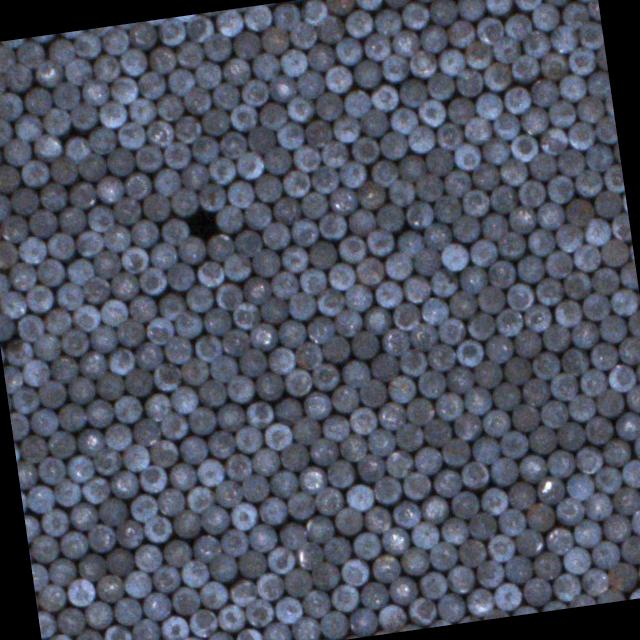tool: (136, 464, 168, 496), (605, 560, 637, 592), (160, 538, 192, 570), (474, 559, 506, 590), (280, 442, 312, 473), (528, 424, 560, 455), (198, 502, 229, 534), (68, 501, 100, 532), (412, 170, 443, 202), (214, 402, 246, 433), (168, 584, 199, 616), (186, 608, 218, 639), (474, 16, 506, 47), (475, 284, 506, 315), (584, 414, 615, 445), (595, 387, 626, 418), (97, 496, 128, 527), (86, 522, 117, 553), (376, 401, 407, 432), (236, 547, 267, 578), (314, 484, 345, 515), (462, 39, 493, 70), (511, 402, 542, 433), (355, 453, 386, 484), (490, 381, 521, 412), (387, 575, 418, 606), (249, 50, 280, 81), (441, 436, 472, 467), (422, 146, 453, 177), (449, 490, 480, 521), (408, 321, 439, 352), (27, 533, 58, 564), (341, 358, 372, 389), (257, 494, 287, 526), (427, 540, 457, 572), (486, 532, 516, 564), (302, 514, 334, 544), (348, 606, 378, 638), (168, 186, 198, 218), (108, 270, 138, 302), (488, 184, 518, 216), (446, 564, 476, 596), (533, 550, 563, 582), (378, 130, 408, 162), (384, 250, 414, 282), (582, 216, 612, 248), (278, 46, 308, 78), (356, 177, 386, 209), (190, 534, 222, 564), (140, 590, 170, 621), (289, 217, 320, 247), (357, 377, 387, 408), (334, 506, 364, 537), (250, 447, 280, 478), (35, 256, 66, 286), (482, 62, 513, 92), (491, 580, 521, 611), (243, 598, 274, 628), (56, 400, 86, 431), (530, 1, 560, 32), (26, 208, 57, 238), (394, 422, 424, 453), (483, 332, 513, 363), (16, 236, 47, 266), (562, 270, 592, 301), (462, 386, 492, 417), (110, 469, 140, 500), (570, 518, 601, 548), (168, 382, 198, 413), (598, 238, 629, 268), (554, 223, 584, 254), (186, 405, 216, 436), (132, 543, 162, 574), (294, 339, 324, 370), (24, 283, 54, 314), (466, 312, 497, 342), (556, 418, 586, 449), (431, 193, 461, 224), (192, 59, 222, 90), (38, 182, 68, 213), (256, 369, 286, 400), (399, 546, 430, 576), (260, 24, 290, 55), (214, 204, 244, 235), (310, 163, 340, 194), (544, 173, 574, 204), (602, 438, 633, 468), (151, 361, 181, 392), (495, 307, 525, 338), (460, 458, 490, 489), (188, 134, 218, 165), (434, 591, 464, 622), (113, 596, 143, 627), (84, 397, 114, 428), (194, 457, 224, 488), (478, 486, 508, 517), (566, 120, 596, 151), (584, 142, 614, 173), (36, 378, 66, 409), (547, 372, 577, 403), (202, 32, 232, 63), (178, 434, 208, 465), (268, 74, 298, 105), (314, 15, 344, 46), (573, 444, 603, 475), (284, 566, 314, 597), (358, 106, 388, 137), (114, 517, 144, 548), (302, 391, 332, 422), (308, 437, 338, 468), (8, 261, 38, 292), (56, 606, 86, 637), (249, 321, 279, 352), (566, 45, 596, 76), (180, 86, 210, 117), (377, 603, 407, 634), (132, 417, 162, 448), (420, 495, 450, 526), (158, 217, 189, 247), (398, 77, 428, 108), (564, 197, 594, 228), (432, 466, 462, 497), (560, 1, 590, 32), (4, 62, 34, 93), (430, 266, 459, 298), (506, 204, 536, 234), (254, 572, 284, 602), (579, 368, 609, 398), (508, 54, 538, 84), (386, 374, 416, 404), (250, 248, 280, 278), (534, 276, 564, 306), (580, 292, 610, 322), (588, 266, 618, 296), (38, 454, 68, 484), (542, 250, 572, 280), (64, 576, 94, 606), (469, 162, 499, 192), (409, 48, 439, 78), (224, 372, 254, 402), (178, 557, 208, 587), (198, 579, 228, 609), (122, 568, 152, 598), (346, 481, 376, 511), (106, 147, 136, 177), (112, 393, 142, 423), (138, 265, 168, 295), (116, 316, 146, 346), (440, 243, 470, 273), (206, 551, 236, 581), (488, 456, 518, 486), (552, 299, 582, 329), (276, 119, 306, 149), (364, 427, 394, 457), (416, 97, 446, 127), (270, 468, 300, 498), (98, 298, 128, 328), (334, 35, 364, 65), (560, 545, 590, 575), (321, 534, 351, 564), (406, 396, 436, 426), (600, 514, 630, 544), (610, 288, 640, 318), (460, 187, 490, 217), (380, 525, 410, 555), (328, 584, 358, 614), (502, 555, 532, 585), (518, 452, 548, 482), (136, 72, 166, 102), (546, 448, 576, 478), (446, 289, 476, 319), (310, 362, 340, 392), (402, 470, 432, 500), (222, 252, 252, 282), (324, 64, 354, 94), (350, 330, 380, 360), (248, 523, 278, 553), (281, 366, 311, 396), (416, 368, 446, 398), (454, 338, 484, 368), (310, 560, 340, 590), (247, 124, 277, 154), (94, 174, 124, 204), (20, 158, 50, 188), (100, 224, 130, 254), (582, 490, 612, 520), (458, 538, 488, 568), (536, 201, 566, 231), (434, 392, 464, 422), (512, 328, 542, 358), (172, 310, 202, 340), (466, 586, 496, 616), (164, 262, 194, 292), (327, 186, 357, 216), (343, 9, 373, 39), (610, 485, 640, 515), (444, 364, 474, 394), (353, 530, 383, 560), (410, 520, 440, 550), (428, 343, 458, 373), (467, 510, 497, 540), (528, 78, 558, 108), (8, 186, 38, 216), (318, 210, 348, 240), (379, 54, 409, 84), (597, 313, 627, 343), (150, 562, 180, 592), (276, 320, 306, 350), (235, 151, 265, 181), (472, 358, 502, 388), (50, 354, 80, 384), (130, 218, 160, 248), (119, 442, 149, 472), (372, 476, 402, 506), (498, 428, 528, 458), (286, 490, 316, 520), (143, 513, 173, 543), (590, 540, 620, 570), (500, 84, 530, 114), (593, 465, 623, 495), (458, 264, 488, 294), (406, 124, 436, 154), (90, 248, 120, 278), (196, 377, 226, 407), (148, 240, 178, 270), (407, 595, 437, 625), (172, 508, 202, 538), (220, 130, 250, 160), (296, 70, 326, 100), (222, 56, 252, 86), (424, 70, 454, 100), (318, 610, 348, 640), (330, 384, 360, 414), (498, 156, 528, 186), (27, 484, 57, 514), (207, 155, 237, 185), (550, 571, 580, 601), (252, 174, 282, 204), (376, 202, 406, 232), (148, 438, 178, 468), (264, 422, 294, 452), (214, 603, 244, 633), (58, 530, 88, 560), (206, 430, 236, 460), (208, 353, 238, 383), (414, 446, 444, 476), (556, 148, 586, 178), (230, 103, 260, 133), (88, 125, 118, 155), (244, 400, 274, 430), (201, 306, 231, 336), (557, 72, 587, 102), (362, 32, 392, 62), (496, 230, 526, 260), (281, 168, 311, 198), (243, 201, 273, 231), (75, 153, 105, 183), (474, 90, 504, 120), (241, 274, 271, 304), (19, 432, 49, 462), (606, 364, 636, 394), (506, 481, 536, 511), (231, 31, 261, 61), (156, 486, 186, 516), (526, 502, 556, 532), (46, 430, 76, 460), (442, 168, 472, 198), (496, 506, 526, 536), (547, 98, 577, 128), (526, 227, 556, 257), (178, 356, 208, 386), (82, 599, 112, 629), (124, 368, 154, 398), (269, 270, 299, 300), (388, 106, 418, 136), (502, 354, 532, 384), (573, 168, 603, 198), (462, 115, 492, 145), (301, 589, 331, 619), (398, 346, 428, 376), (422, 418, 452, 448), (314, 288, 344, 318), (518, 104, 548, 134), (127, 95, 157, 125), (382, 448, 412, 478), (559, 346, 589, 376), (314, 91, 344, 121), (306, 42, 336, 72), (210, 81, 240, 111), (538, 400, 568, 430), (132, 340, 162, 370), (334, 308, 364, 338), (514, 528, 544, 558), (173, 39, 203, 69), (454, 412, 484, 442), (141, 190, 171, 220), (588, 341, 618, 371), (240, 78, 270, 108), (450, 214, 480, 244), (290, 416, 320, 446), (530, 349, 560, 379), (264, 146, 294, 176), (66, 376, 96, 406), (338, 160, 368, 190), (439, 516, 469, 546), (420, 296, 450, 326), (266, 544, 296, 574), (47, 557, 77, 587), (528, 150, 558, 180), (320, 334, 350, 364), (565, 472, 595, 502), (294, 538, 324, 568), (366, 228, 396, 258), (446, 18, 476, 48), (340, 556, 370, 586), (222, 452, 252, 482), (286, 290, 316, 320), (392, 500, 422, 530), (128, 493, 158, 523), (417, 571, 447, 601), (76, 552, 106, 582), (594, 188, 624, 218), (238, 346, 268, 376), (52, 80, 82, 110), (544, 526, 574, 556), (88, 324, 118, 354), (118, 120, 148, 150), (369, 83, 399, 113), (219, 527, 249, 557), (468, 238, 498, 268), (580, 566, 610, 596), (163, 334, 193, 364), (228, 578, 258, 608), (306, 240, 336, 270), (52, 477, 82, 507), (370, 158, 400, 188), (373, 6, 403, 36), (142, 390, 172, 420), (412, 247, 442, 277), (542, 321, 572, 351), (514, 254, 544, 284), (354, 258, 384, 288), (576, 92, 606, 122), (288, 19, 318, 49), (298, 464, 328, 494), (402, 273, 432, 303), (268, 344, 298, 374), (32, 331, 62, 361), (373, 280, 403, 310), (54, 282, 84, 312), (535, 476, 565, 506), (41, 106, 71, 136), (96, 370, 126, 400), (522, 304, 552, 334), (332, 114, 362, 144), (522, 576, 552, 606), (257, 100, 287, 130), (506, 282, 536, 312), (370, 553, 400, 583), (336, 235, 366, 265), (554, 494, 584, 524), (508, 132, 538, 162), (2, 137, 32, 167), (80, 78, 110, 108), (350, 58, 380, 88), (345, 208, 375, 238), (481, 136, 511, 166), (273, 596, 303, 626), (146, 314, 176, 344), (490, 34, 520, 64), (423, 222, 453, 252), (305, 118, 335, 148), (196, 182, 226, 212), (270, 194, 300, 224), (42, 306, 72, 336), (368, 350, 398, 380), (35, 584, 65, 614), (232, 228, 262, 258), (56, 205, 86, 235), (103, 546, 133, 576), (14, 112, 44, 142), (433, 122, 463, 152), (392, 28, 422, 58), (404, 200, 434, 230), (165, 68, 195, 98), (157, 290, 187, 320), (305, 314, 335, 344), (5, 338, 35, 368), (539, 51, 569, 81), (520, 30, 550, 60), (35, 58, 65, 88), (126, 20, 156, 50), (75, 428, 105, 458), (478, 212, 508, 242), (502, 10, 532, 40), (22, 87, 52, 117), (98, 24, 128, 54), (185, 13, 215, 43), (537, 126, 567, 156), (16, 38, 46, 68), (576, 18, 605, 49), (521, 376, 550, 407), (177, 234, 206, 264), (348, 404, 377, 434), (572, 242, 601, 272), (293, 142, 322, 172), (343, 282, 372, 312), (30, 406, 59, 436), (328, 262, 357, 292), (110, 76, 139, 106), (482, 409, 511, 439), (112, 196, 141, 226), (363, 505, 392, 535), (22, 358, 51, 388), (486, 260, 515, 290), (261, 220, 290, 250), (393, 301, 422, 331), (184, 282, 213, 312), (567, 393, 596, 423), (169, 462, 198, 492), (418, 24, 447, 54), (339, 432, 368, 462), (437, 48, 466, 78), (280, 243, 309, 273), (41, 506, 70, 536), (326, 458, 355, 488), (214, 478, 243, 508), (361, 580, 390, 610), (95, 574, 124, 604), (235, 424, 264, 454), (350, 134, 379, 164), (320, 140, 349, 170), (342, 88, 371, 118), (438, 317, 467, 347), (381, 326, 410, 356), (148, 44, 177, 74), (491, 112, 520, 142), (200, 109, 230, 138), (453, 68, 482, 98), (119, 244, 148, 274), (470, 434, 499, 464), (83, 276, 112, 306), (230, 501, 259, 531), (194, 260, 223, 290), (453, 144, 482, 174), (231, 301, 260, 331), (205, 232, 234, 262), (321, 412, 350, 442), (144, 118, 173, 148), (73, 302, 102, 332), (227, 179, 256, 209), (46, 38, 76, 67), (172, 113, 201, 143), (63, 132, 92, 162), (277, 520, 306, 550), (85, 202, 114, 232), (34, 132, 63, 162), (260, 294, 290, 323), (62, 57, 92, 86), (364, 305, 393, 335), (273, 396, 303, 425), (157, 16, 186, 46), (396, 154, 426, 183), (448, 96, 477, 126), (215, 282, 244, 312), (51, 154, 80, 184), (0, 213, 28, 244), (550, 24, 578, 55), (135, 144, 164, 173), (401, 1, 430, 30), (194, 333, 223, 362), (67, 180, 96, 209), (179, 161, 208, 190), (273, 1, 302, 30), (98, 101, 127, 130), (66, 256, 95, 285), (518, 178, 546, 208), (120, 47, 148, 77), (242, 4, 272, 32), (301, 190, 329, 220), (106, 346, 134, 376), (570, 319, 598, 349), (240, 472, 268, 502), (104, 422, 132, 452), (46, 232, 74, 262), (160, 410, 188, 440), (162, 141, 190, 171), (68, 453, 96, 483), (156, 92, 184, 122), (92, 446, 120, 476), (387, 178, 415, 208), (70, 102, 100, 130), (128, 294, 156, 324), (92, 52, 120, 82), (60, 328, 88, 358), (76, 228, 104, 258), (220, 327, 248, 357), (80, 349, 108, 379), (152, 166, 180, 196), (16, 312, 44, 342), (0, 290, 28, 320), (10, 384, 38, 414), (396, 228, 424, 258), (124, 172, 153, 200), (286, 95, 314, 124), (215, 8, 244, 36), (298, 267, 326, 296), (82, 476, 110, 505), (186, 483, 214, 512), (428, 0, 458, 27), (585, 70, 612, 100), (72, 31, 100, 59), (159, 614, 189, 640), (289, 615, 320, 640), (615, 410, 640, 441), (594, 115, 618, 145), (299, 0, 328, 24), (130, 617, 160, 640), (0, 91, 22, 122), (602, 164, 624, 194), (610, 211, 632, 241), (618, 335, 640, 365), (456, 0, 486, 22), (16, 459, 38, 489), (619, 456, 640, 487), (618, 260, 639, 290), (0, 163, 20, 194), (620, 533, 640, 563), (3, 363, 23, 392), (262, 621, 292, 640), (10, 409, 28, 439), (24, 514, 42, 544), (103, 623, 133, 640), (0, 240, 17, 270), (38, 611, 56, 639), (566, 592, 596, 608), (0, 43, 16, 73), (32, 562, 48, 592), (596, 587, 624, 604), (0, 312, 16, 340), (326, 0, 355, 15), (482, 0, 512, 14), (626, 383, 640, 413), (482, 606, 510, 620), (72, 627, 102, 640), (594, 46, 608, 73), (235, 627, 264, 640), (0, 116, 12, 147), (627, 311, 640, 339), (602, 92, 615, 120), (540, 599, 566, 612), (512, 604, 540, 616), (610, 138, 622, 166), (587, 0, 601, 22), (206, 630, 236, 640), (0, 191, 10, 221), (355, 0, 384, 10), (511, 0, 540, 10), (0, 38, 26, 49), (454, 614, 482, 624), (20, 488, 30, 516), (631, 507, 640, 537), (426, 618, 453, 628), (88, 26, 115, 36), (394, 623, 423, 632), (58, 30, 86, 39), (30, 34, 58, 43), (168, 14, 196, 23), (43, 632, 73, 640), (383, 0, 412, 8), (0, 268, 8, 296), (633, 430, 640, 461), (541, 0, 571, 7), (626, 585, 640, 600), (0, 67, 6, 97), (634, 360, 640, 389)
void: (185, 210, 221, 240)
